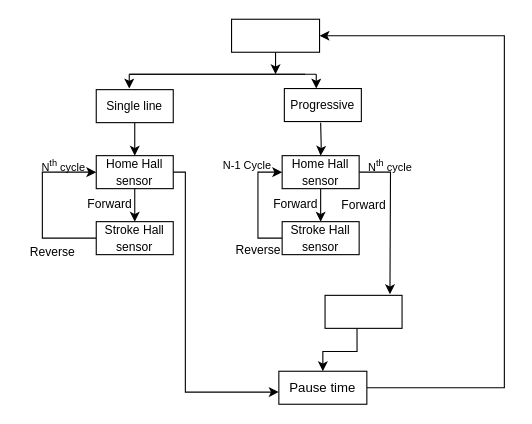
Image size: 532x424. Some labels were removed from this diagram. The centre of each missing label's shape, as x and y in pixels:
Relief Hall sesnor: pixel 363 311
Run time: pixel 275 35
